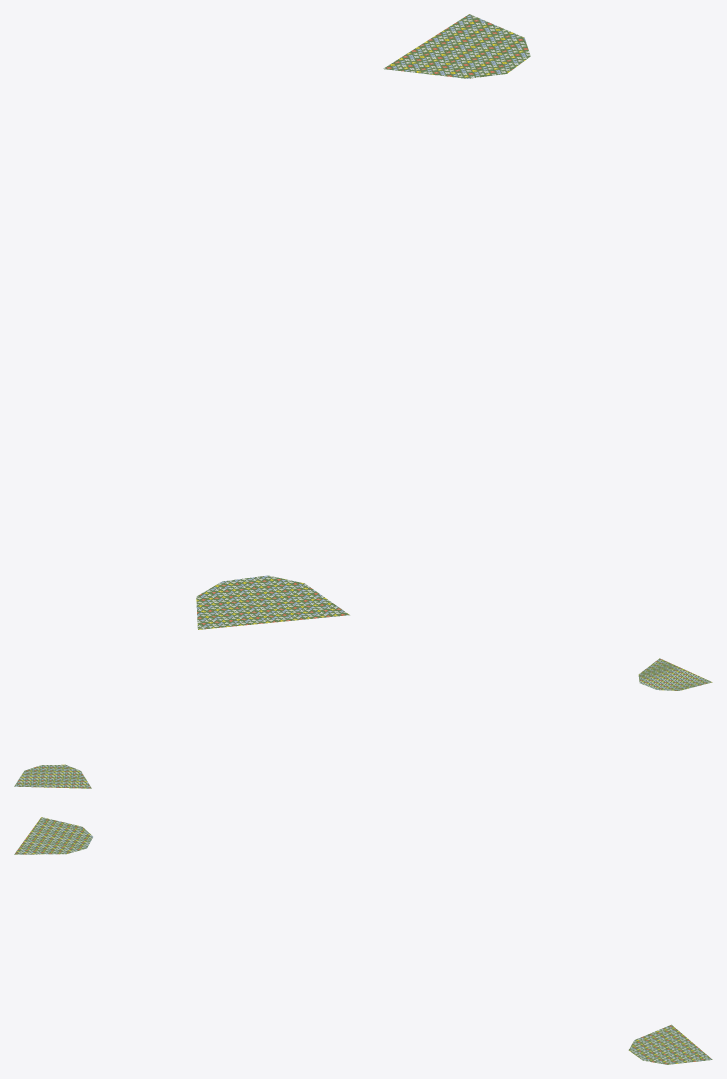
Rendered from kd_stage_136599_16_13_bounded.glb.
The picture shows the model from 3 angles, top to bottom: view 1: azimuth 30°, elevation 25°; view 2: azimuth 150°, elevation 25°; view 3: azimuth 270°, elevation 25°; orthographic projection. The views are drawn at different scales.
Visible parts, largest first — view 1: kd_stage_136599_16_13_bounded; view 2: kd_stage_136599_16_13_bounded; view 3: kd_stage_136599_16_13_bounded.
Part boxes in pixels (<box>): kd_stage_136599_16_13_bounded: <box>196,14,530,629</box>; kd_stage_136599_16_13_bounded: <box>14,658,712,788</box>; kd_stage_136599_16_13_bounded: <box>14,817,712,1064</box>.
Bounding box in the file's own units: 128 × 1.14e-05 × 152.
Materials: 1 (1 with a texture image).
